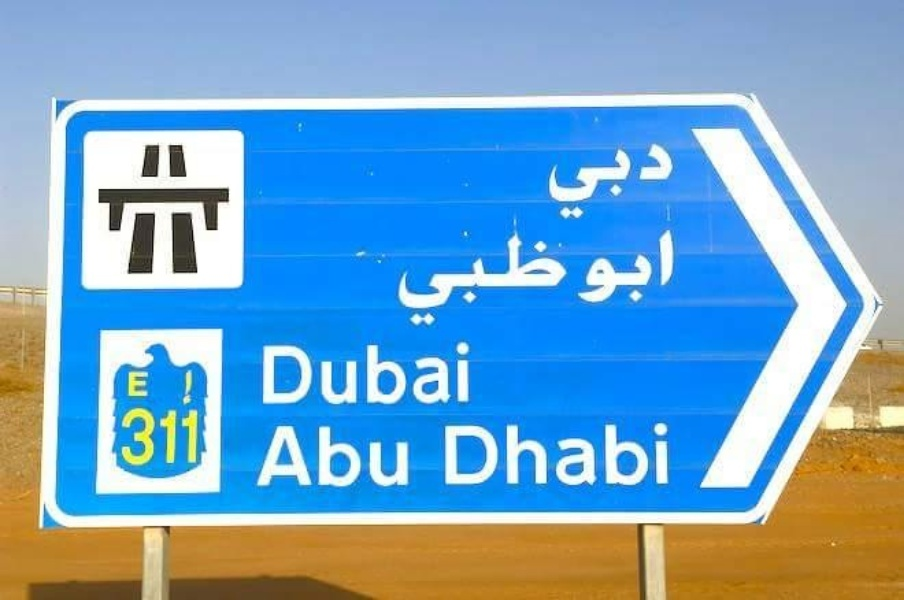text: (401, 229, 416, 324), (417, 229, 432, 324), (433, 229, 448, 324), (449, 229, 464, 324), (465, 229, 480, 324), (481, 229, 496, 324), (497, 229, 512, 324), (513, 229, 528, 324), (529, 229, 544, 324), (545, 229, 560, 324), (561, 229, 576, 324), (577, 229, 592, 324), (593, 229, 608, 324), (609, 229, 624, 324), (625, 229, 640, 324), (641, 229, 656, 324), (657, 229, 672, 324), (561, 140, 576, 224), (577, 140, 592, 224), (593, 140, 608, 224), (609, 140, 624, 224), (625, 140, 640, 224), (641, 140, 656, 224), (657, 140, 672, 224), (547, 140, 560, 224), (273, 340, 288, 406), (289, 340, 304, 406), (305, 340, 320, 406), (321, 340, 336, 406), (337, 340, 352, 406), (353, 340, 368, 406), (369, 340, 384, 406), (385, 340, 400, 406), (401, 340, 416, 406), (417, 340, 432, 406), (433, 340, 448, 406), (449, 340, 464, 406), (449, 422, 464, 487), (465, 422, 480, 487), (481, 422, 496, 487), (497, 422, 512, 487), (513, 422, 528, 487), (529, 422, 544, 487), (545, 422, 560, 487), (561, 422, 576, 487), (577, 422, 592, 487), (593, 422, 608, 487), (609, 422, 624, 487), (625, 422, 640, 487), (641, 422, 656, 487), (289, 425, 304, 488), (305, 425, 320, 488), (321, 425, 336, 488), (337, 425, 352, 488), (353, 425, 368, 488), (369, 425, 384, 488), (385, 425, 400, 488), (129, 407, 144, 468), (145, 407, 160, 468), (161, 407, 176, 468), (177, 407, 192, 468), (657, 422, 670, 487), (276, 425, 288, 488), (401, 425, 413, 488), (262, 340, 272, 406), (121, 407, 128, 468), (193, 407, 200, 468), (129, 370, 144, 398), (183, 365, 192, 410), (442, 422, 448, 487), (465, 340, 470, 406), (673, 229, 676, 324), (145, 370, 151, 398), (399, 229, 400, 324), (193, 365, 195, 410), (673, 140, 674, 224), (127, 370, 128, 398)
